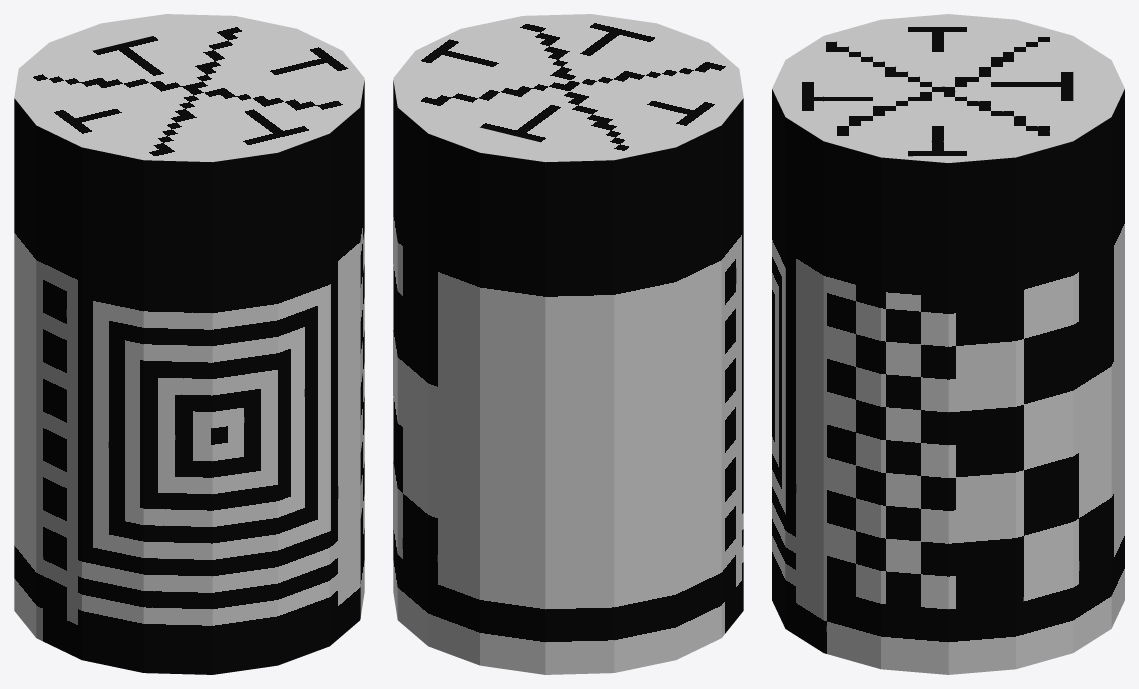
Rendered from tank.obj.
3 views of the same model, side by side, from view 1: azimuth 30°, elevation 25°; view 2: azimuth 150°, elevation 25°; view 3: azimuth 270°, elevation 25° (orthographic).
Visible parts, largest first — view 1: tank; view 2: tank; view 3: tank.
Part boxes in pixels (x1,y1,x2,y2): tank: (14,14,364,674); tank: (393,14,743,674); tank: (772,14,1124,674).
Size of the model in its own units: 2.5 by 4 by 2.5.
Materials: 1 (1 with a texture image).
